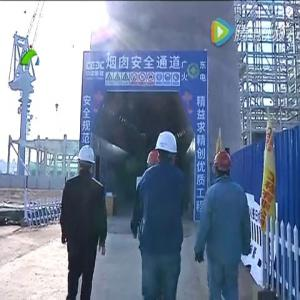red: (214, 149, 232, 180), (146, 150, 161, 172)
white: (157, 131, 179, 166), (77, 144, 97, 174)
